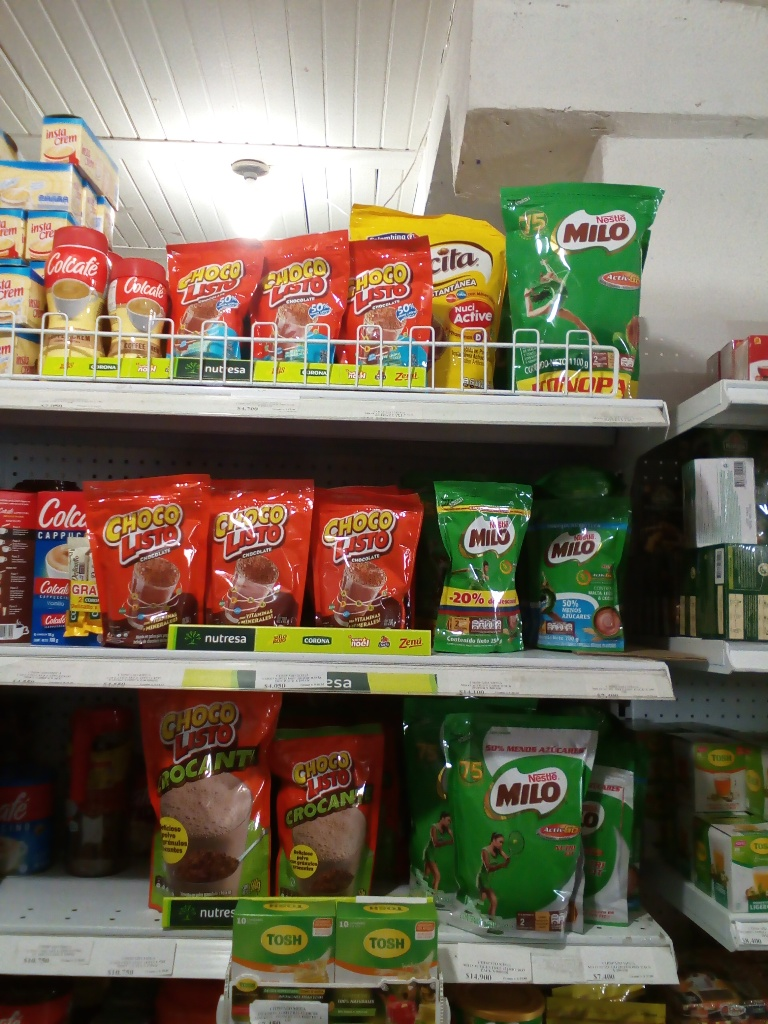COL0170102DYP25000: (277, 733, 372, 893)
COL0170102DYP50000: (145, 693, 272, 913)
COL0170103DYP20000: (82, 480, 213, 645)
COL0170104DYP20000: (167, 243, 263, 362)
COL0170203DYP25000: (435, 474, 525, 659)
COL0170205DYP20000: (526, 500, 623, 644)
